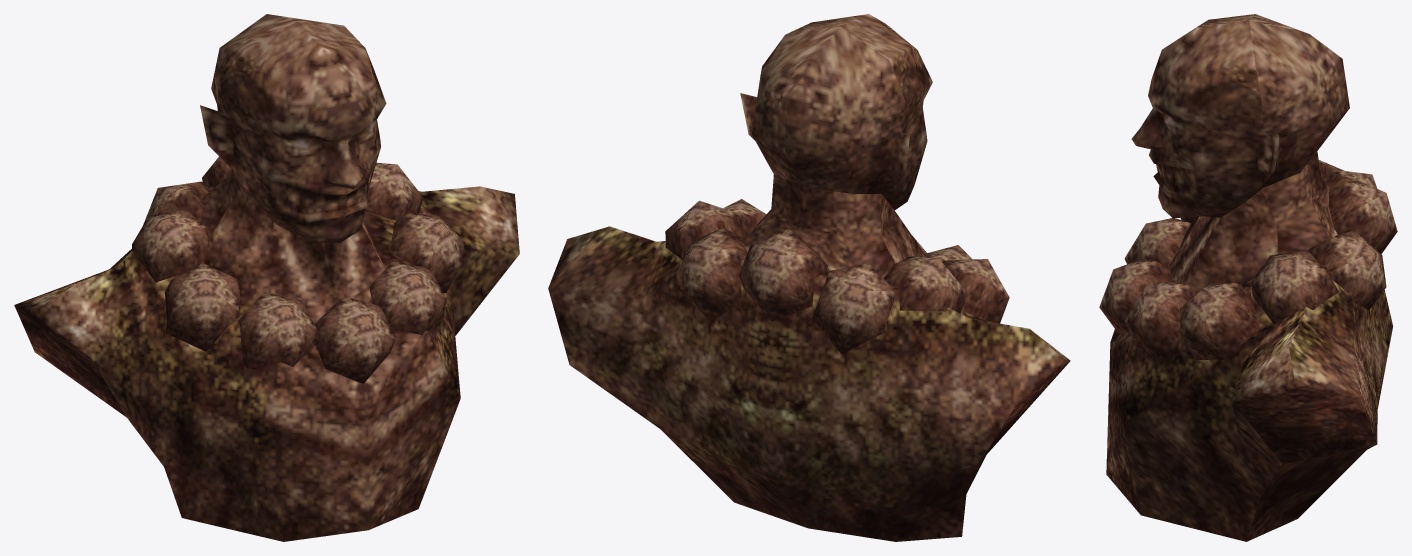
The model's file is general_obj_stoneimage01.glb.
The picture shows the model from 3 angles, left to right: view 1: azimuth 30°, elevation 25°; view 2: azimuth 150°, elevation 25°; view 3: azimuth 270°, elevation 25°; orthographic projection. The views are drawn at different scales.
Visible parts, largest first — view 1: Sphere01; view 2: Sphere01; view 3: Sphere01.
Boxes of the visible parts, x1,y1,x2,y2 form: Sphere01: (14, 14, 519, 541); Sphere01: (548, 14, 1070, 541); Sphere01: (1099, 14, 1397, 541).
Size of the model in its own units: 5.85 by 5.41 by 3.15.
1 material, 1 textured.
